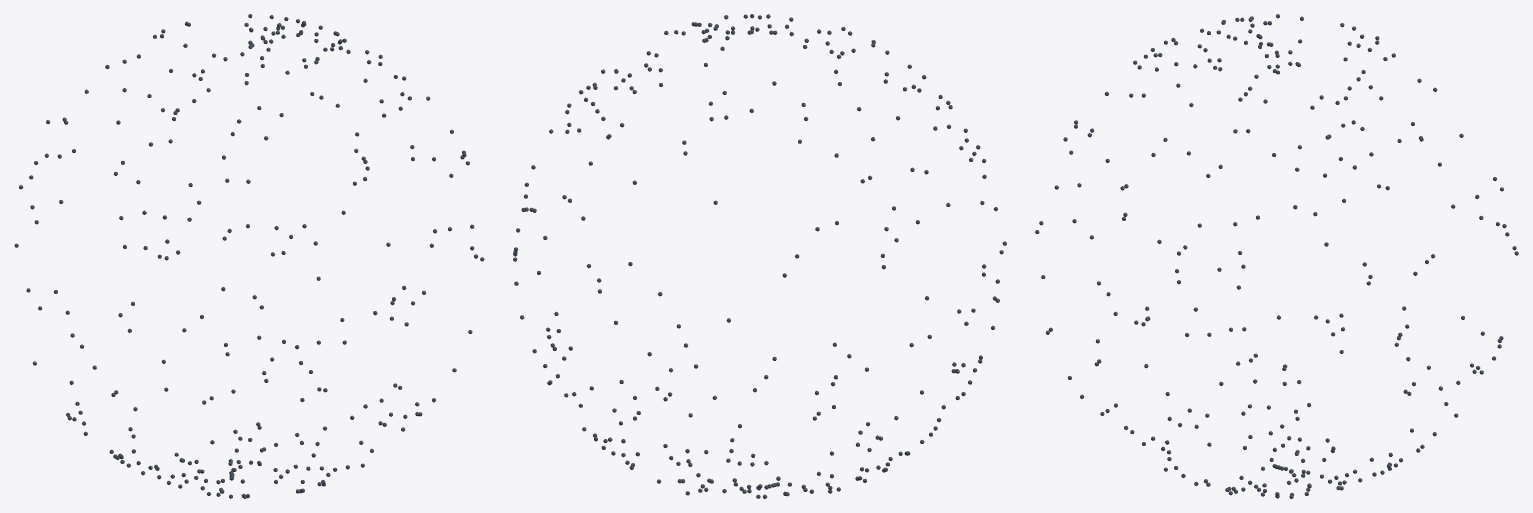
Rendered from IRIDIUM - 2m.glb.
The picture shows the model from 3 angles, left to right: view 1: azimuth 30°, elevation 25°; view 2: azimuth 150°, elevation 25°; view 3: azimuth 270°, elevation 25°; orthographic projection.
Parts seen in each view (by area): view 1: IRIDIUM - 2m; view 2: IRIDIUM - 2m; view 3: IRIDIUM - 2m.
Part boxes in pixels (x1=…): IRIDIUM - 2m: x1=14, y1=14, x2=484, y2=498; IRIDIUM - 2m: x1=513, y1=14, x2=1006, y2=498; IRIDIUM - 2m: x1=1035, y1=14, x2=1518, y2=498.
Size of the model in its own units: 0.3603 by 0.361 by 0.3598.
